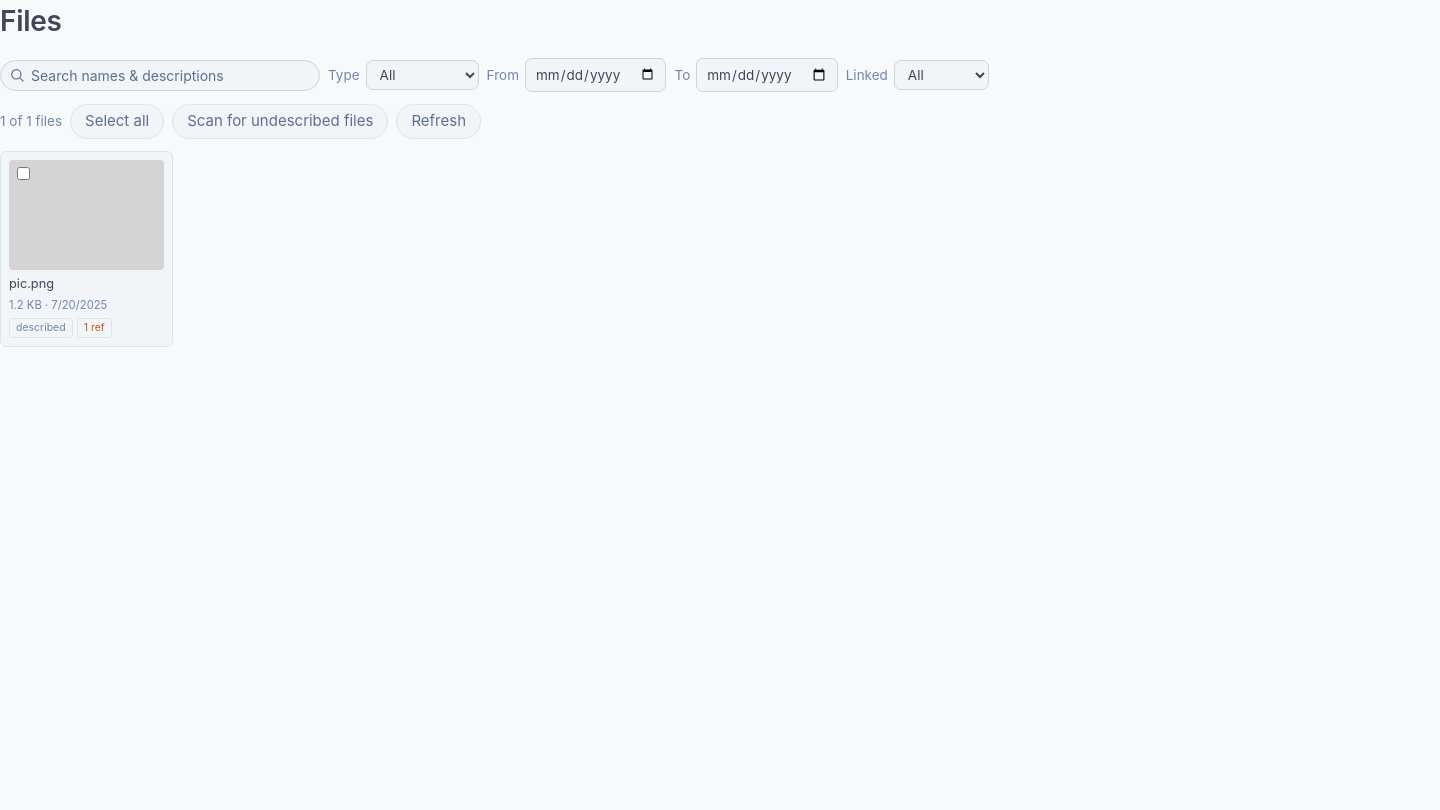
Test case: Files › lists the blocks a refused delete names, as a page delete does
The width and height of the screenshot is (1440, 810).
Click the checkbox named "Select pic.png" at (24, 173), box x1=17 y1=167 x2=30 y2=180
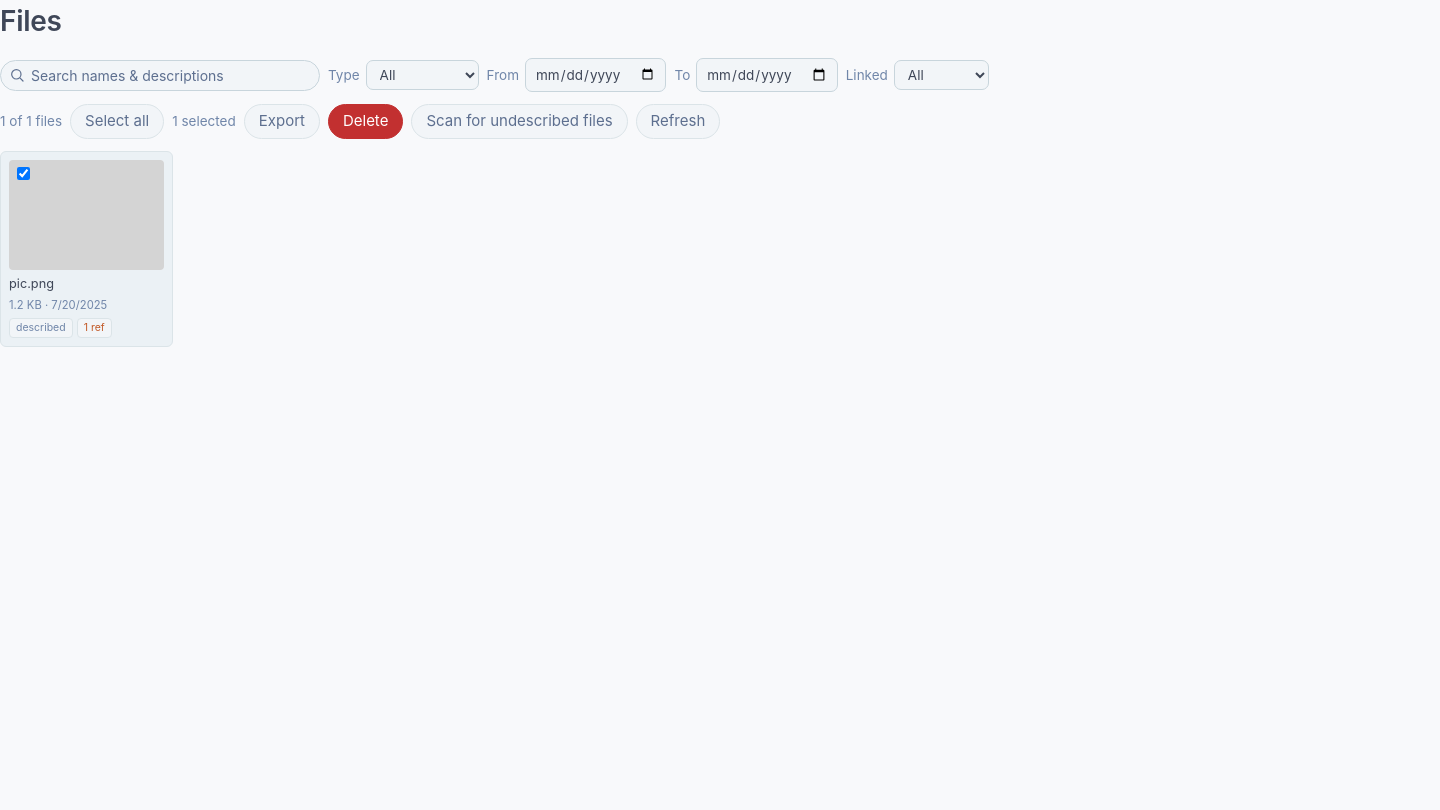
Click the button "Delete" at (366, 122), box x1=328 y1=104 x2=403 y2=139
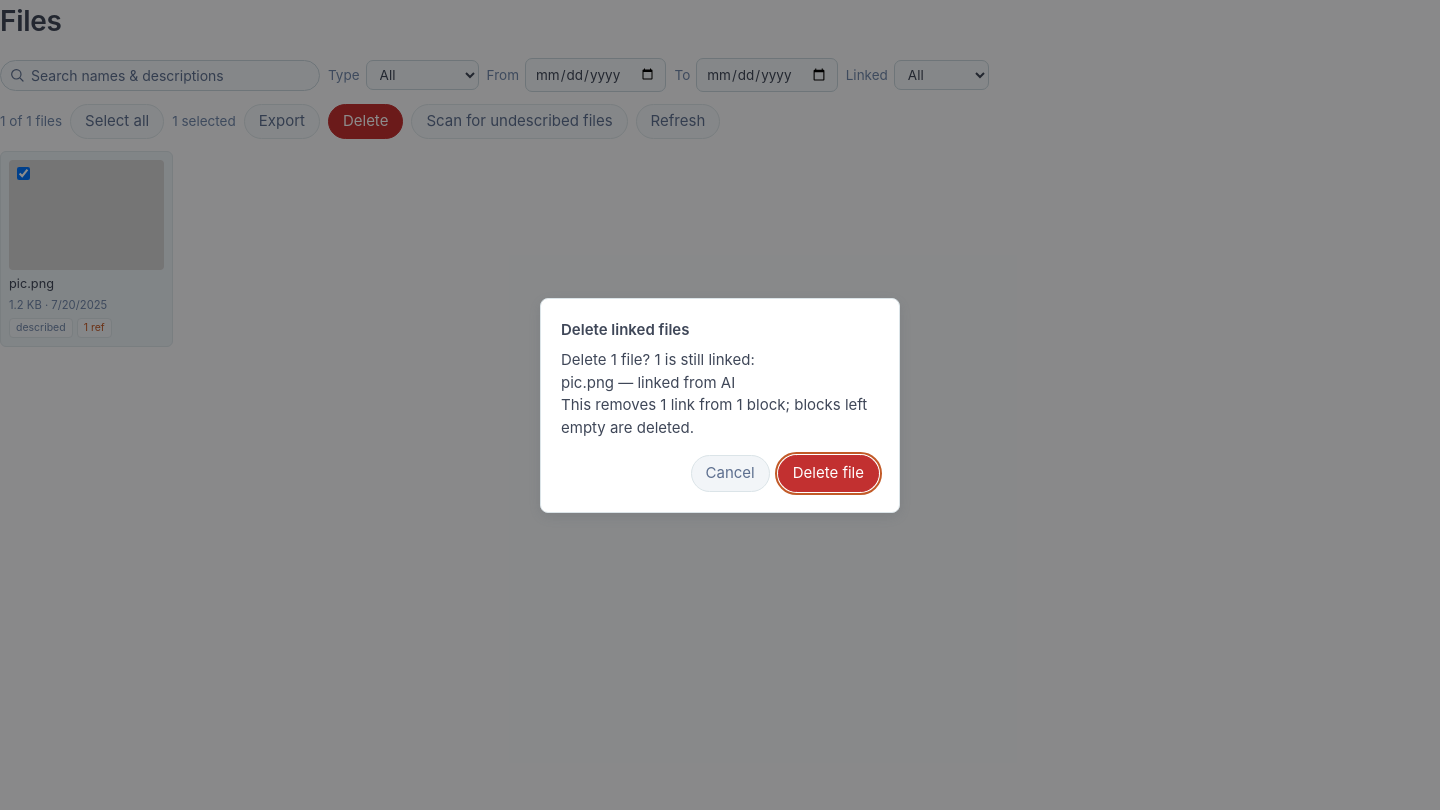
Click the button "Delete file" at (828, 473), box x1=778 y1=455 x2=879 y2=492
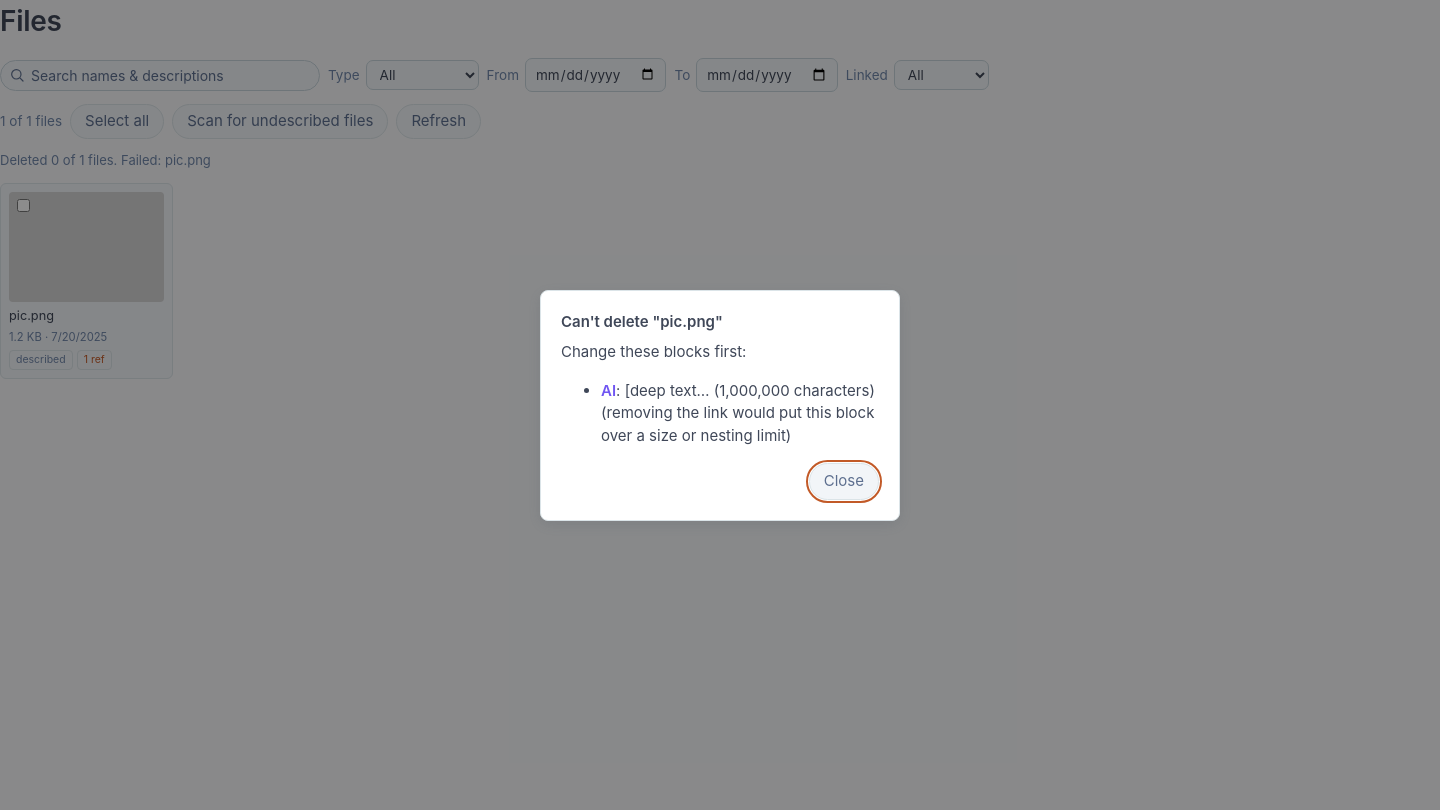
Check: the dialog "Can't delete \"pic.png\"" shows "Change these blocks first:", box x1=561 y1=342 x2=746 y2=361
Check: the text "Deleted 0 of 1 files. Failed: pic.png" is shown, box x1=0 y1=152 x2=211 y2=168
Click the button "Close" at (844, 481), box x1=809 y1=463 x2=879 y2=500
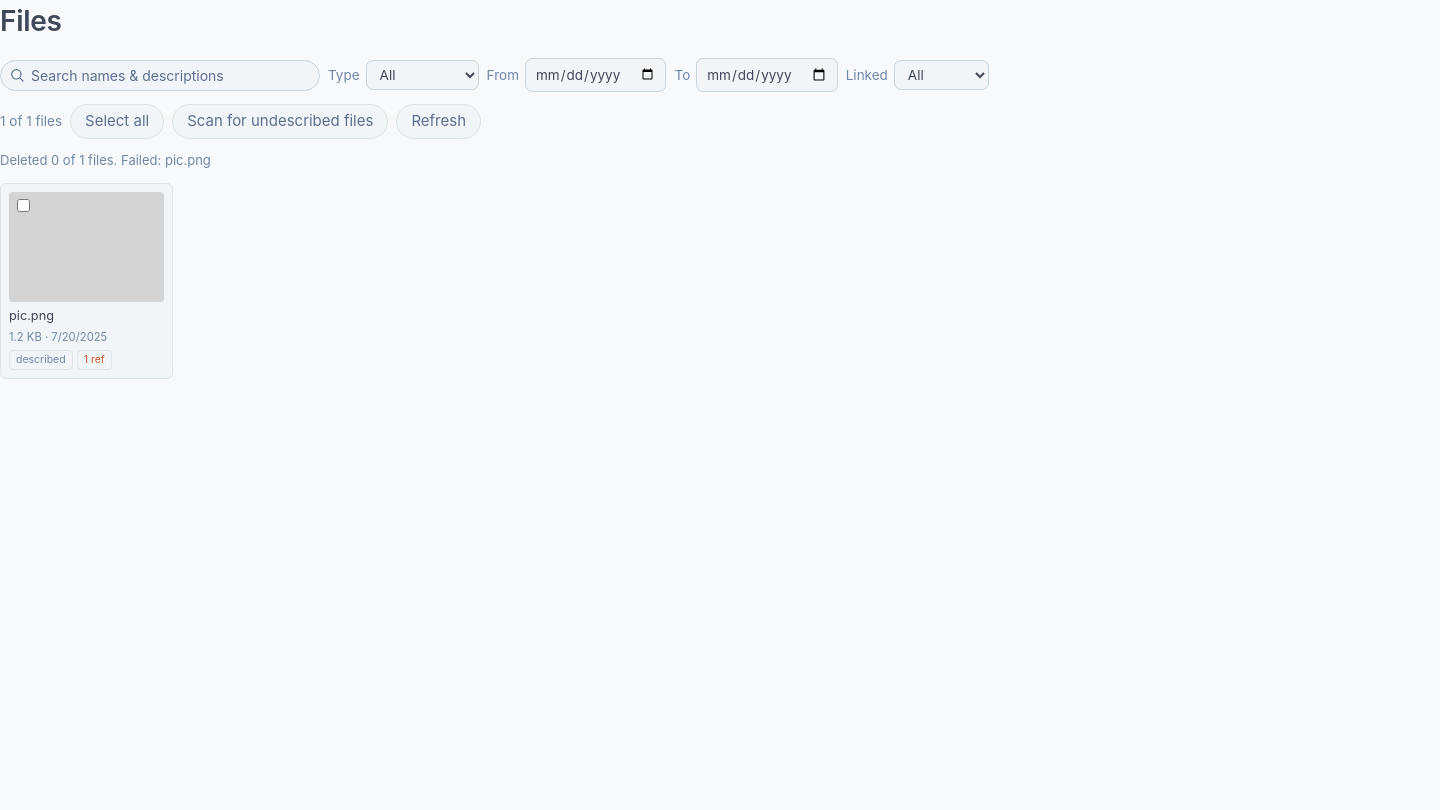
Check: the dialog is gone
